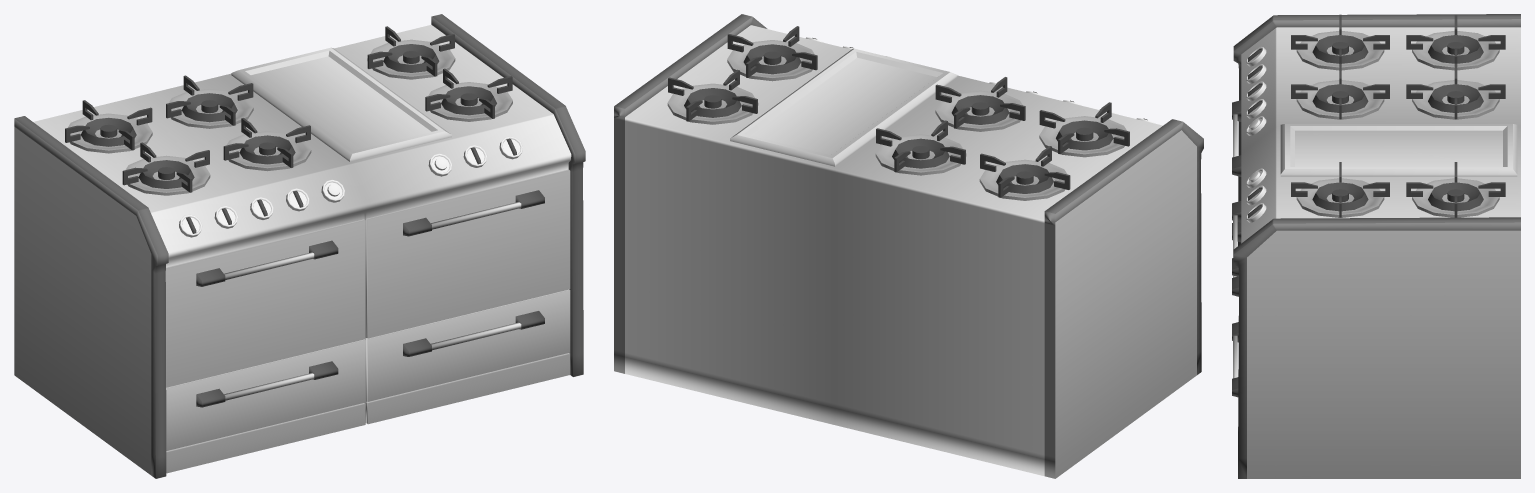
The model's file is SM_Zaotai.fbx.
3 views of the same model, side by side, from view 1: azimuth 30°, elevation 25°; view 2: azimuth 150°, elevation 25°; view 3: azimuth 270°, elevation 25° (orthographic). The views are drawn at different scales.
Visible parts, largest first — view 1: SM_Zaotai; view 2: SM_Zaotai; view 3: SM_Zaotai.
Boxes of the visible parts, x1,y1,x2,y2 form: SM_Zaotai: (14, 14, 585, 478); SM_Zaotai: (614, 14, 1203, 478); SM_Zaotai: (1232, 14, 1520, 478).
Bounding box in the file's own units: 180 × 107 × 105.
